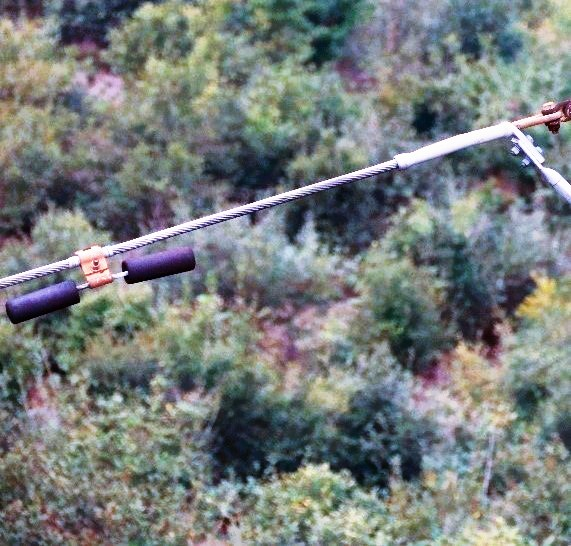Shockproof hammer: (2, 218, 200, 323)
